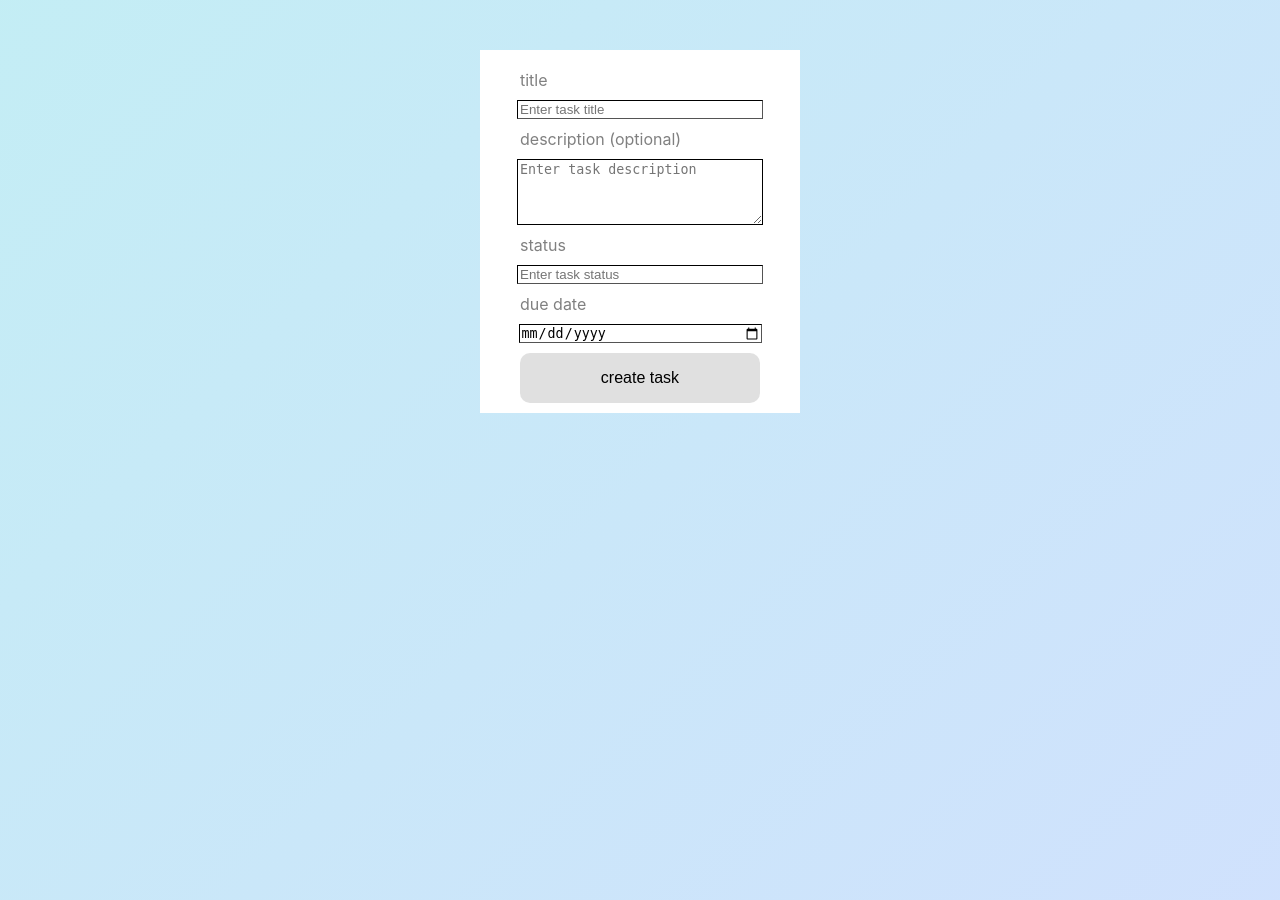
Test case: Home Component › successfully creates task without description
In the field with placeholder "Enter task title": [640, 110] box [517,100,763,119], type "Test Task"
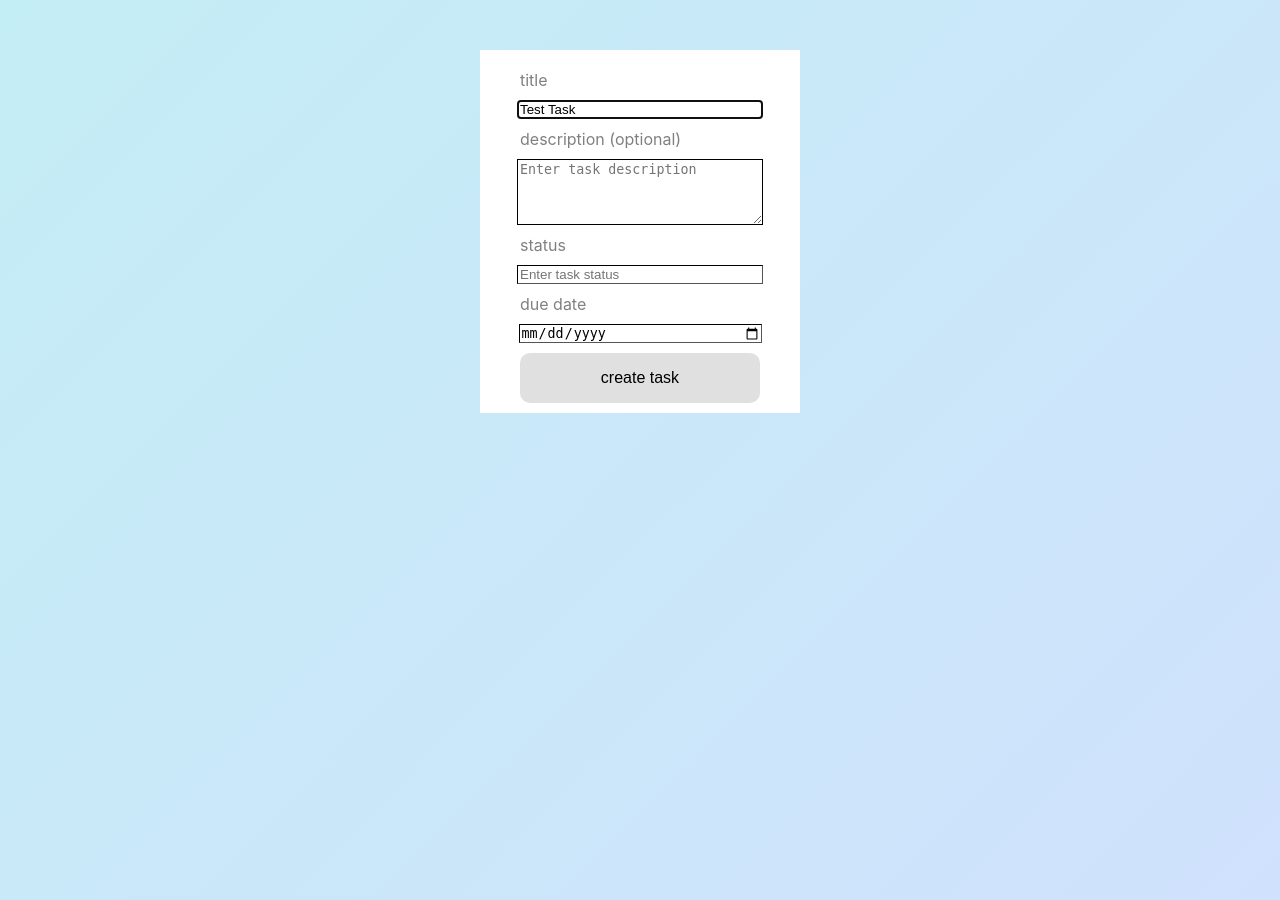
In the field with placeholder "Enter task status": [640, 274] box [517,265,763,284], type "pending"
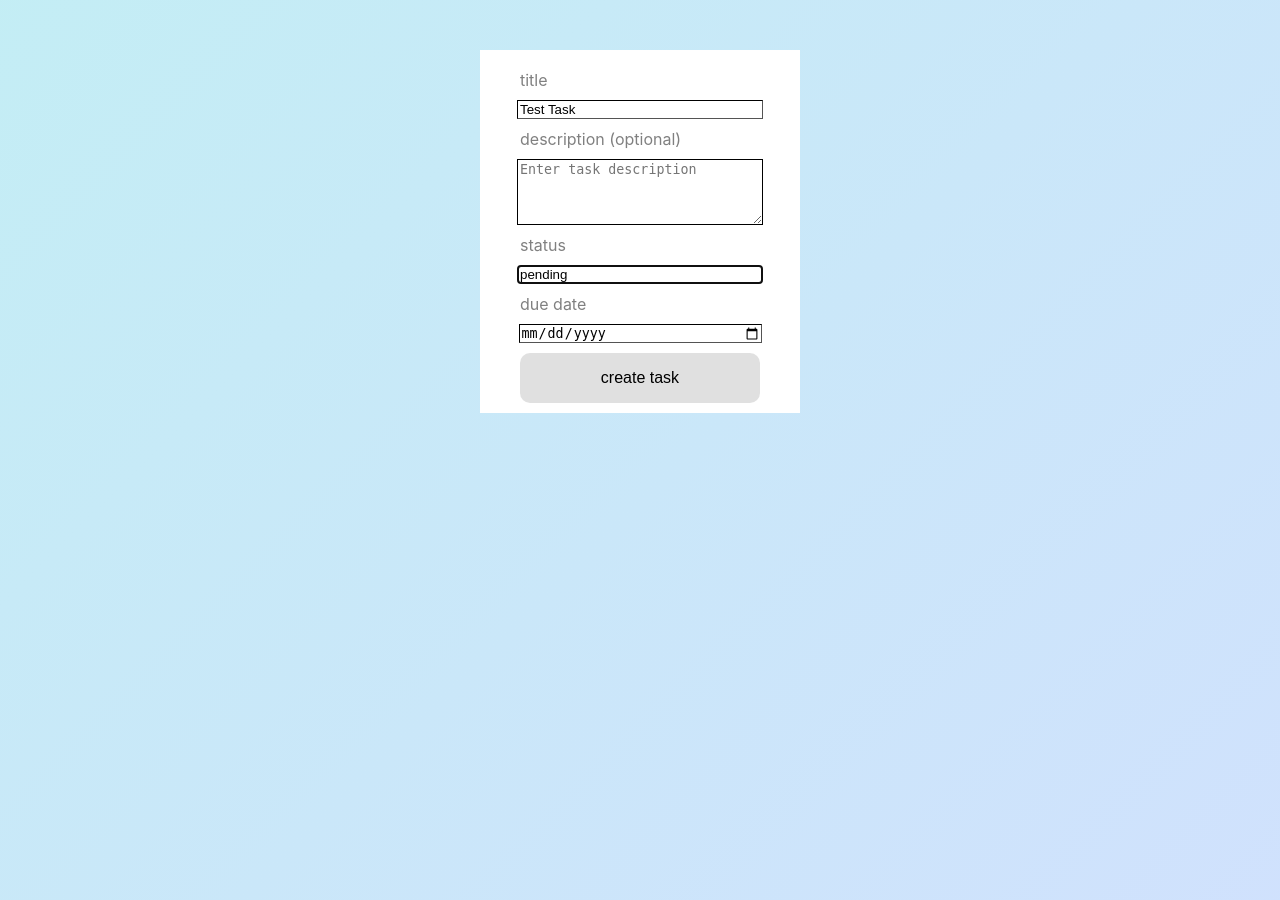
In the date field labelled "due date": [640, 334] box [518,324,762,343], type "2024-12-31"
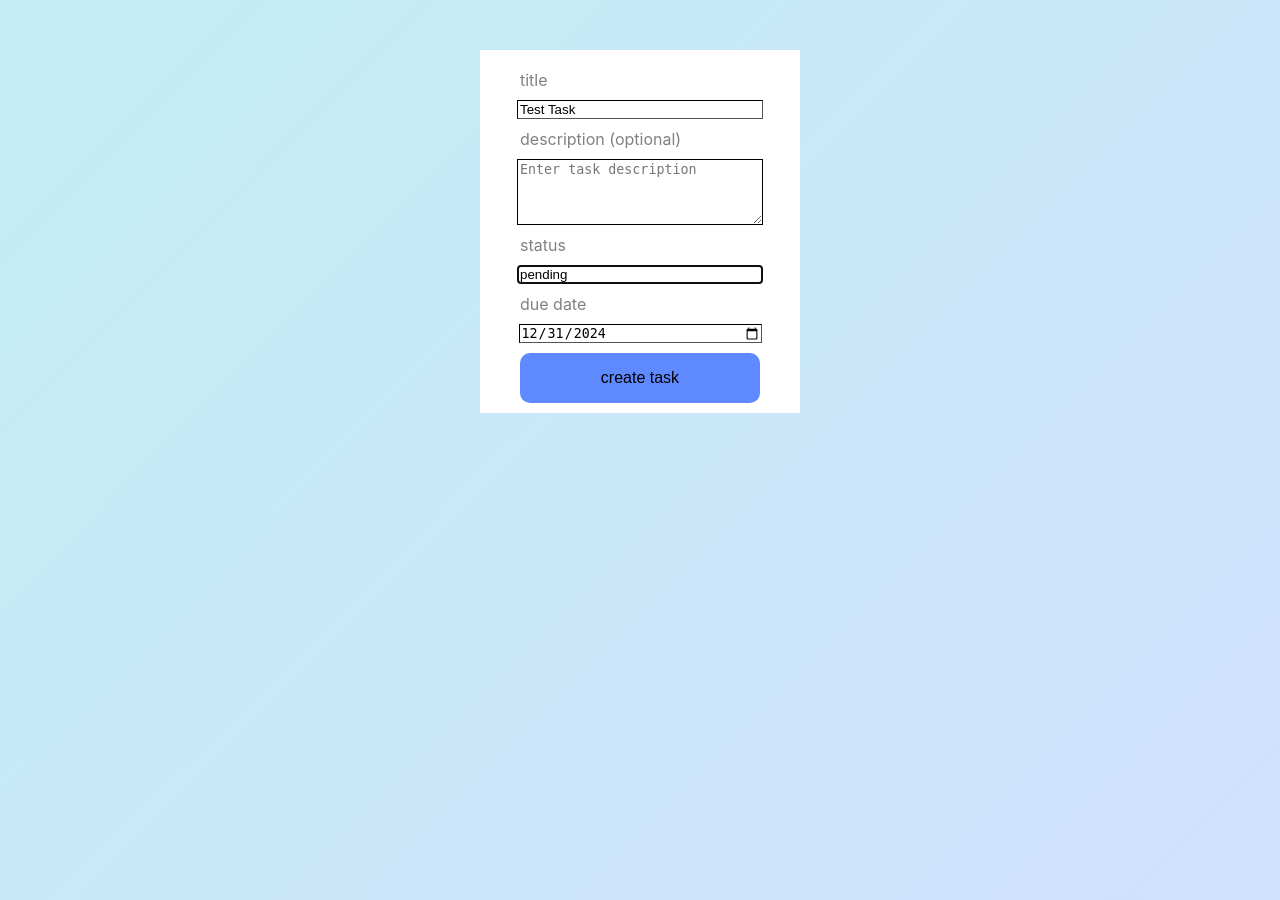
Click the button "create task": [640, 378] box [520,353,760,403]
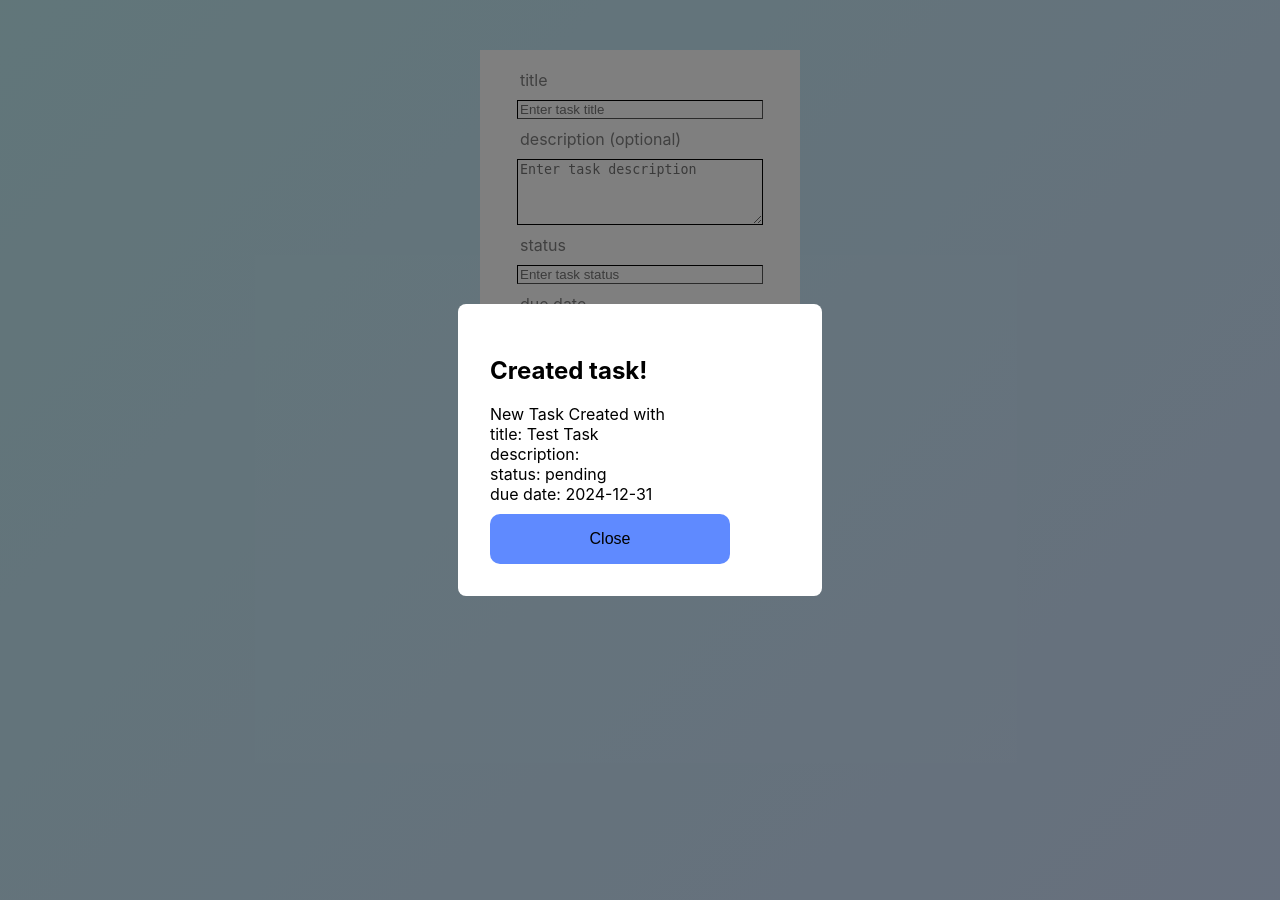
Expected: the heading "Created task!" is shown, [490,356,647,384]
